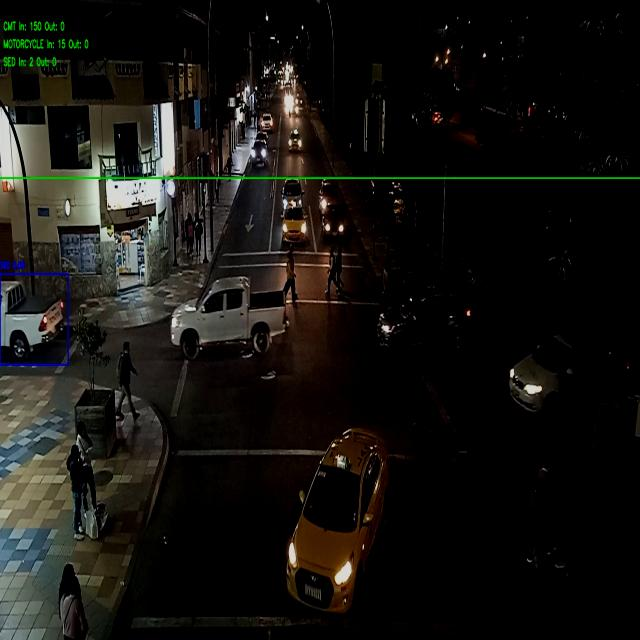CMT: (170, 276, 286, 352), (0, 279, 64, 356)
SED: (288, 437, 386, 612), (509, 334, 604, 410), (282, 209, 305, 245), (323, 206, 344, 242), (290, 132, 302, 151)
SUV: (378, 290, 468, 348), (284, 178, 302, 208), (252, 142, 265, 165), (262, 114, 273, 131)
